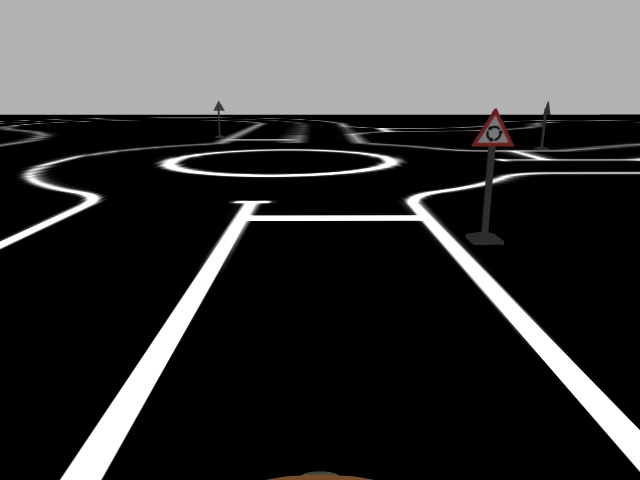roundabout: (470, 108, 515, 145)
